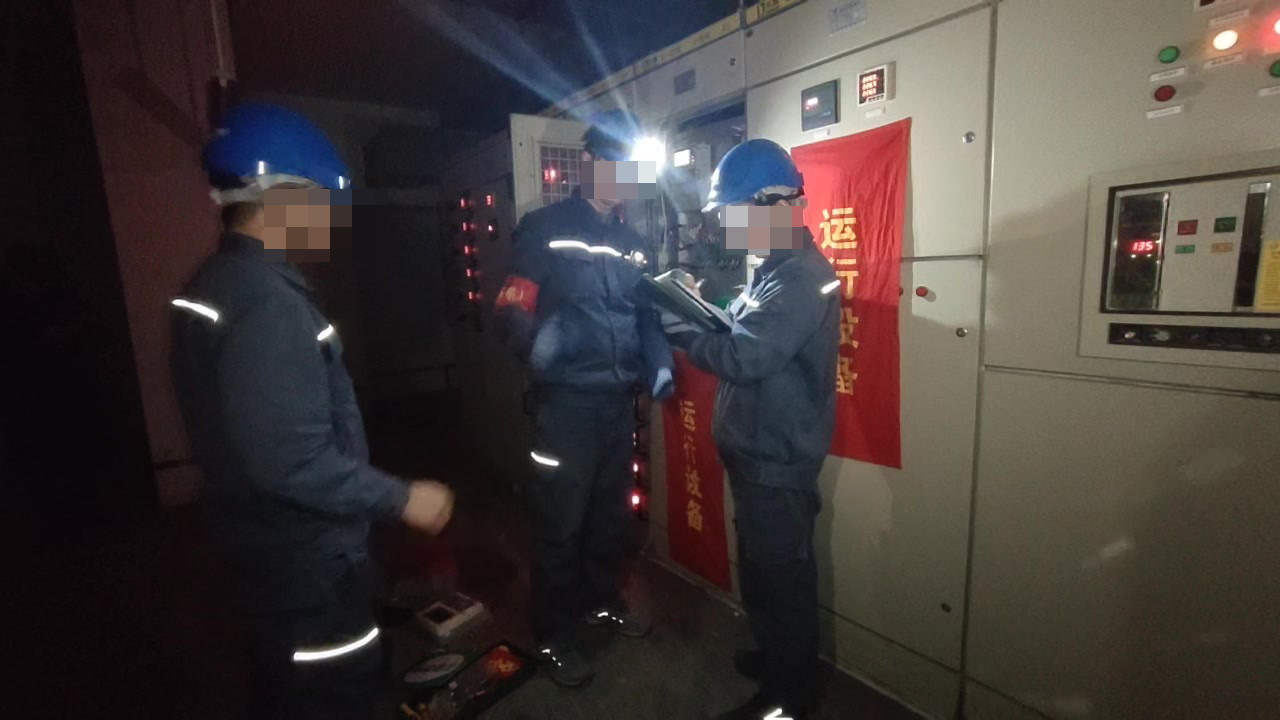badge: (497, 275, 539, 318)
downsuit: (198, 578, 399, 720), (524, 403, 640, 635), (729, 490, 829, 715)
halt: (203, 102, 360, 261), (702, 138, 808, 258), (581, 106, 650, 205)
hand: (398, 472, 455, 538)
inear: (247, 177, 320, 250), (754, 191, 802, 239)
person: (159, 97, 415, 712), (495, 103, 670, 693), (681, 138, 855, 718)
upsuit: (171, 231, 411, 565), (686, 224, 846, 460), (499, 184, 667, 397)
